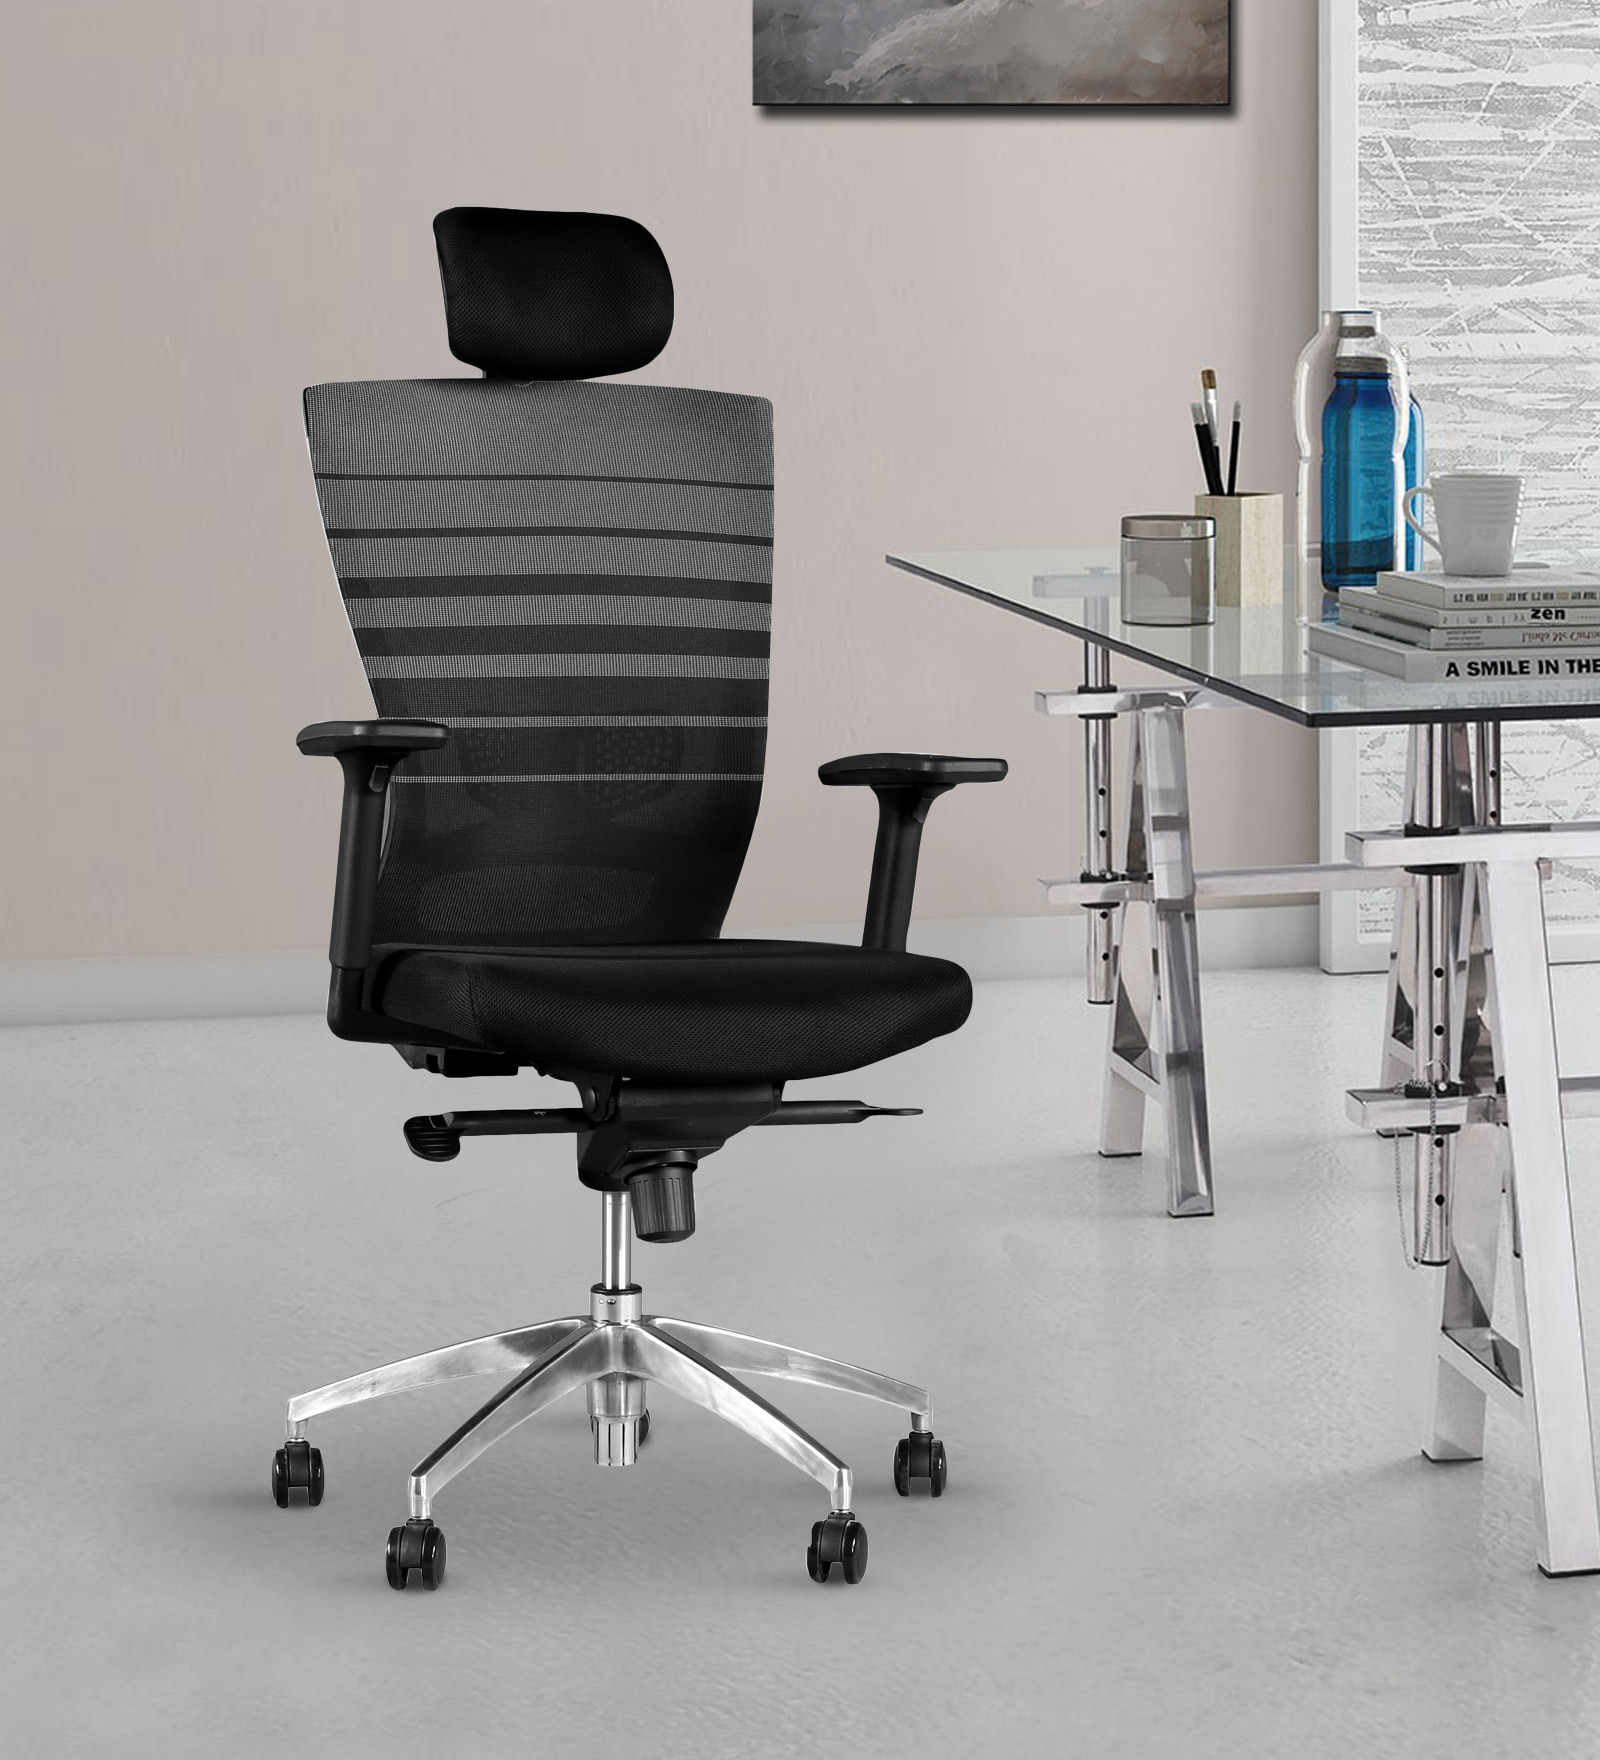Ergo High Back Ergonomic Chair in Black Colour by HomeTown: (205, 186, 1024, 1647)
